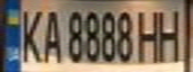8: (115, 7, 139, 64), (100, 7, 121, 64), (63, 7, 84, 64), (81, 7, 100, 64)
A: (36, 4, 63, 63)
H: (154, 4, 190, 63), (133, 6, 166, 64)
K: (15, 4, 45, 64)
